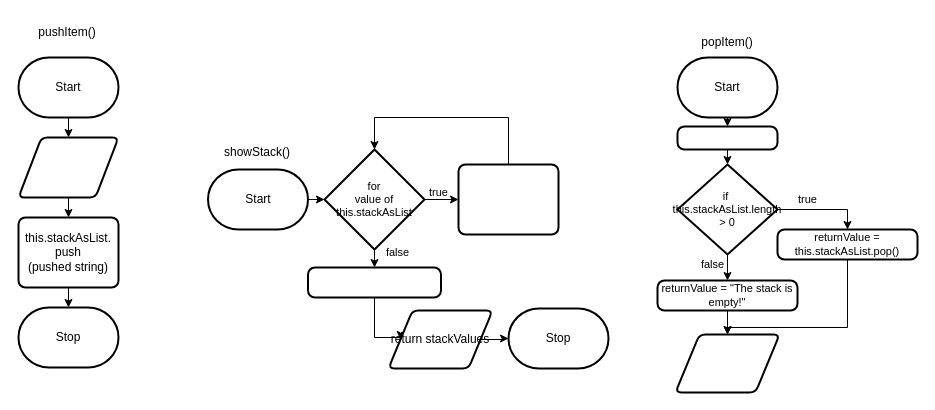
The diagram is 935 pixels wide and 410 high, and some of its shapes have lost their labels. Each missing label, with the centre of its shape:
get string: point 68,167
return returnValue: point 727,363
returnValue = "": point 727,137
stackValues += value + ", ": point 508,199
stackValues = stackValues.slice(0, -2): point 374,282
